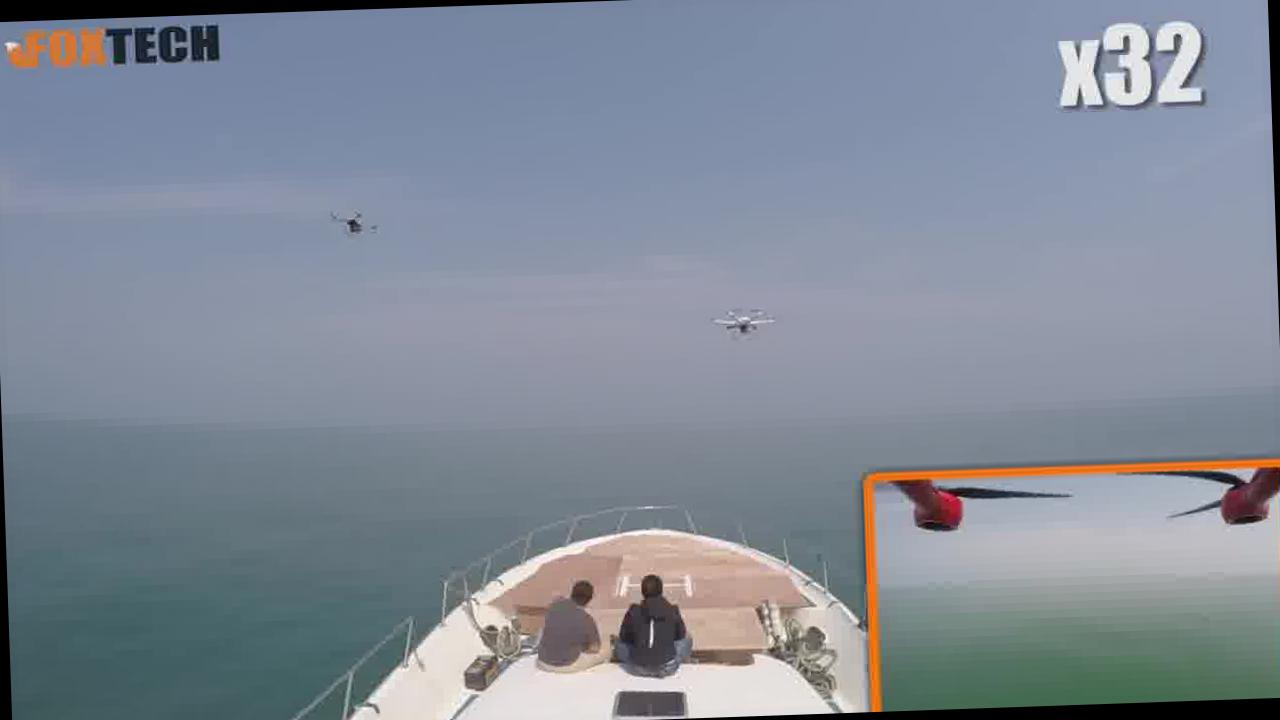drone: (694, 292, 790, 349), (316, 202, 386, 242)
